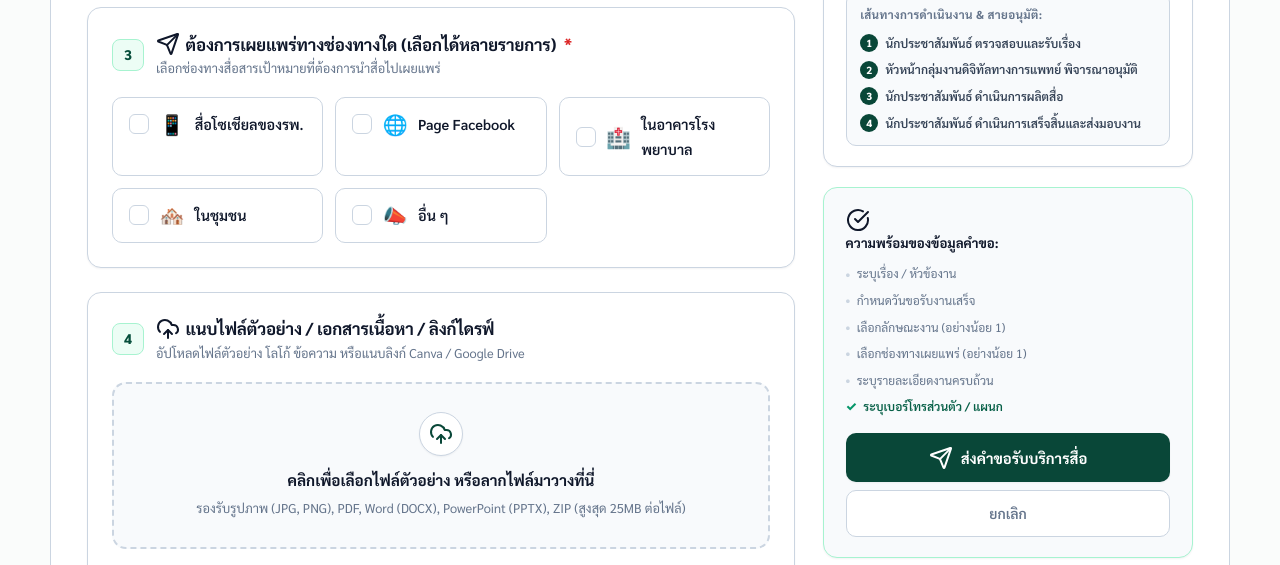
MediaRequestFormClient Component (Hallmark Anti-AI-Slop Redesign) › validates required fields and shows error alert when submitted empty
The width and height of the screenshot is (1280, 565).
(page scrolled)
Click the button "ส่งคำขอรับบริการสื่อ" at (1008, 458), box [846, 433, 1170, 482]
(page scrolled)
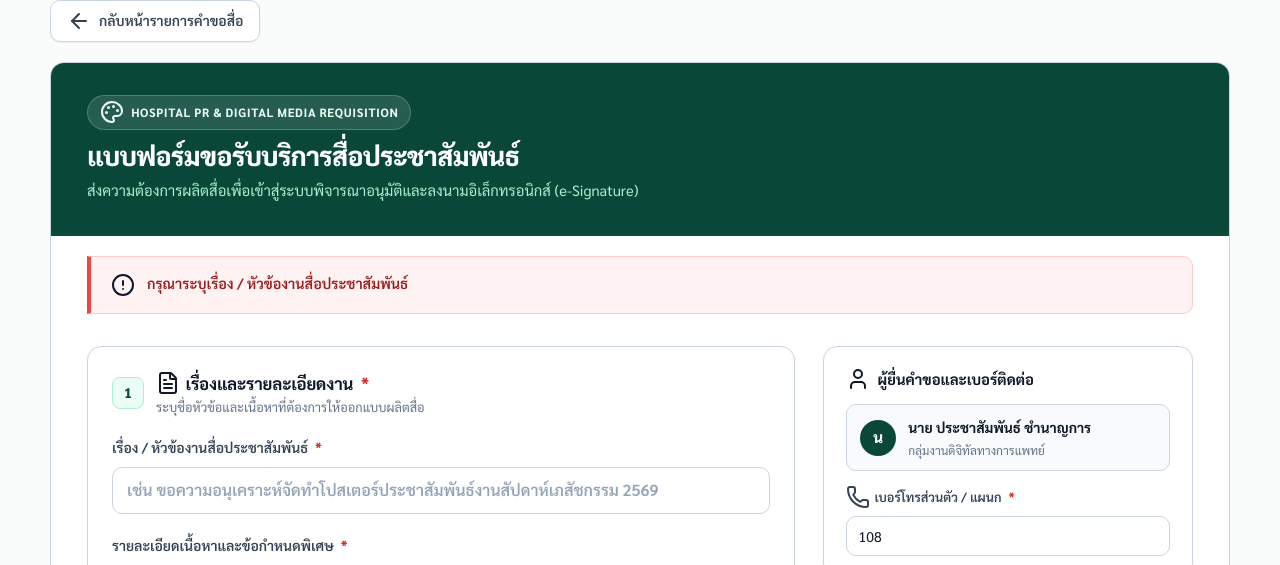
Result: the text "กรุณาระบุเรื่อง / หัวข้องานสื่อประชาสัมพันธ์" is shown at [147, 273, 408, 294]
